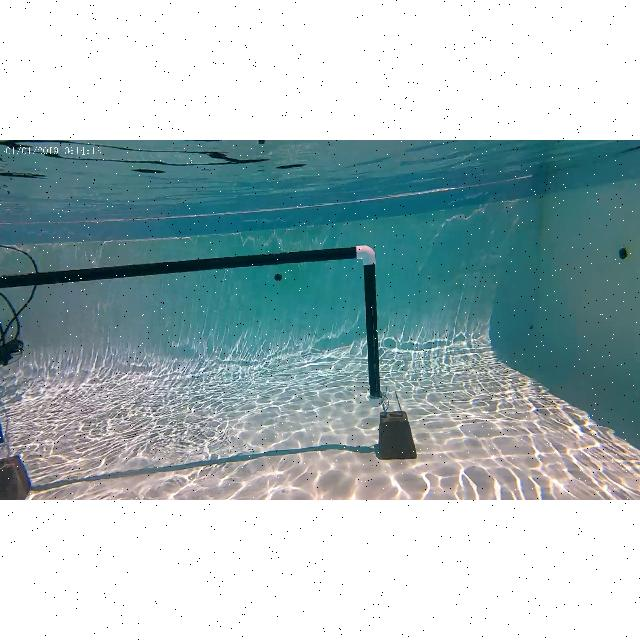prequal gate: (0, 245, 382, 449)
prequal gate leg r: (350, 243, 394, 412)
